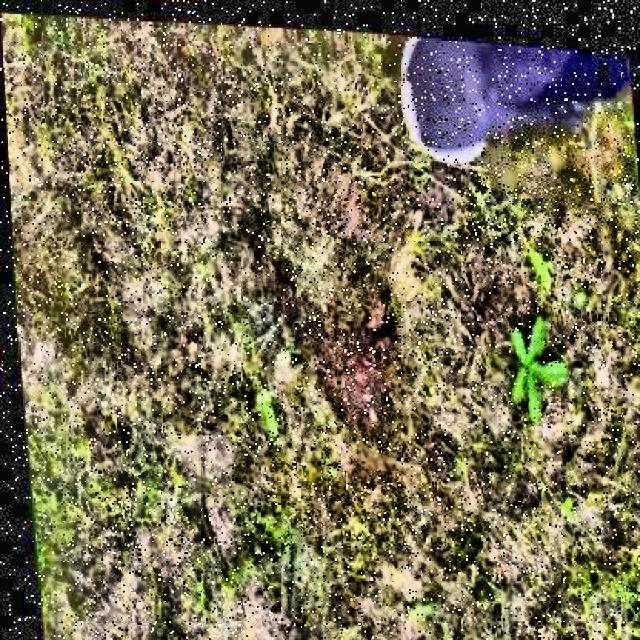Weeds: (501, 298, 572, 412)
